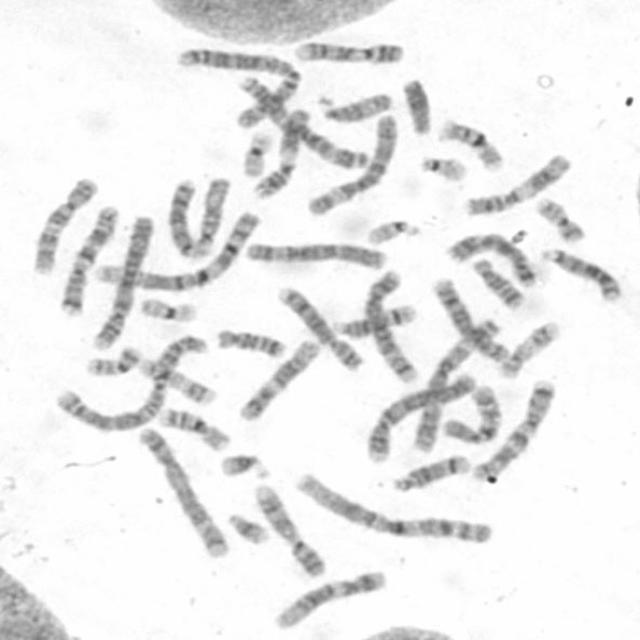A1: (288, 470, 494, 546), (93, 208, 264, 292)
A2: (49, 330, 211, 434), (173, 44, 303, 128)
A3: (232, 72, 370, 170), (414, 316, 499, 460)
B4: (360, 369, 478, 465), (88, 210, 156, 351)
B5: (134, 423, 232, 562), (361, 266, 420, 384)
C10: (27, 174, 99, 276), (439, 381, 504, 446)
C11: (460, 150, 574, 218), (248, 105, 311, 201)
C12: (269, 566, 389, 632), (235, 336, 321, 423)
C6: (302, 111, 400, 218), (240, 238, 389, 272)
C7: (468, 376, 557, 482), (54, 201, 121, 317)
C8: (274, 282, 365, 373), (429, 274, 512, 365)
C9: (250, 482, 329, 580), (290, 37, 406, 66)
D13: (536, 244, 622, 304), (165, 174, 200, 258)
D14: (388, 450, 473, 495), (329, 300, 419, 339)
D15: (190, 174, 232, 254), (316, 88, 393, 125)
E16: (436, 116, 506, 174), (155, 403, 233, 453)
E17: (132, 353, 216, 407), (496, 318, 564, 382)
E18: (468, 255, 526, 310), (211, 324, 287, 360)
F19: (237, 126, 276, 180), (136, 294, 200, 324)
F20: (531, 192, 587, 245), (81, 342, 144, 378)
G21: (224, 508, 272, 546), (215, 450, 272, 480)
G22: (362, 216, 421, 247), (415, 152, 470, 183)
X: (441, 227, 538, 289)
Y: (399, 74, 434, 137)
